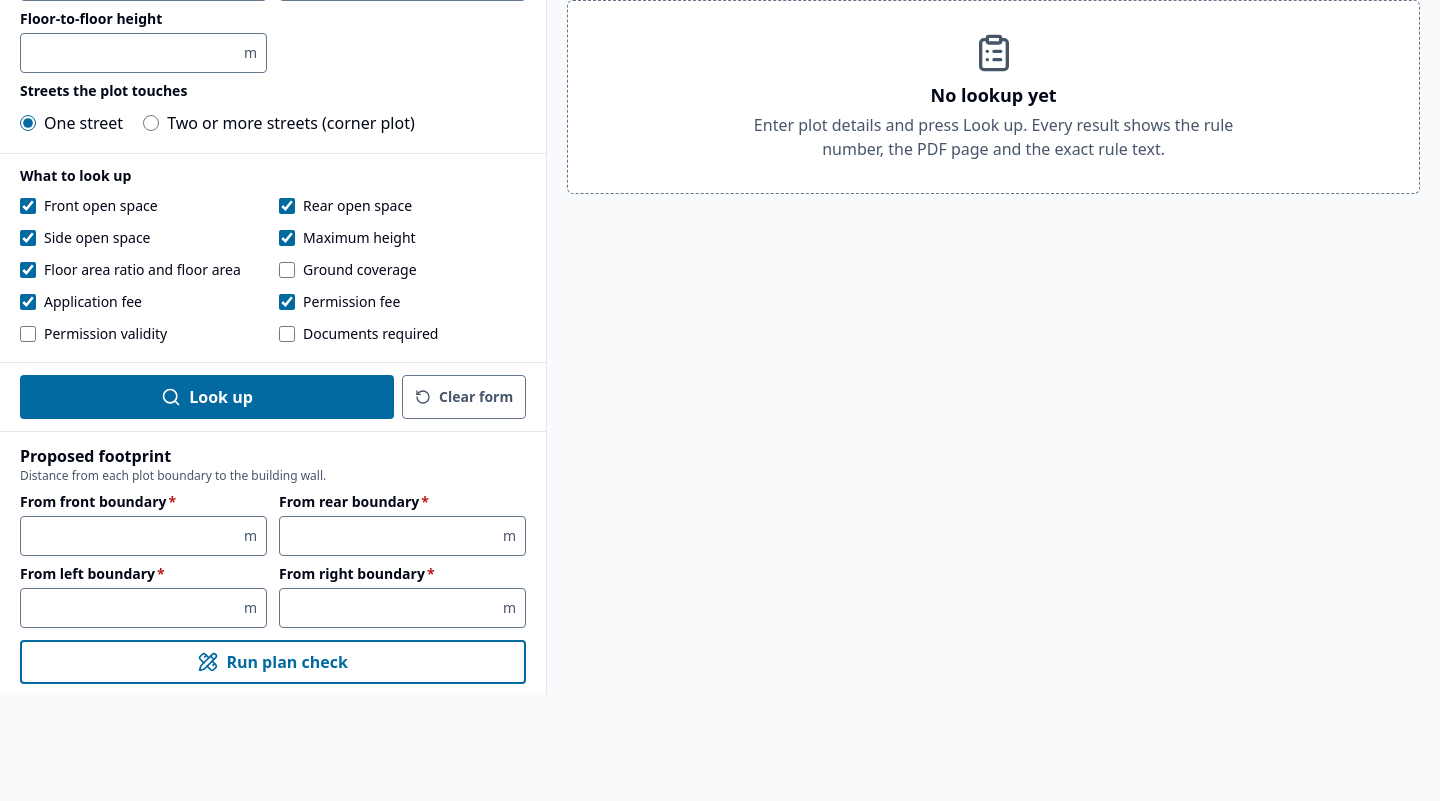
it: validation › blocks submit, names each missing field and focuses the summary
The image size is (1440, 801).
(page scrolled)
Click the button "Look up" at (207, 396), box [20,374,394,418]
(page scrolled)
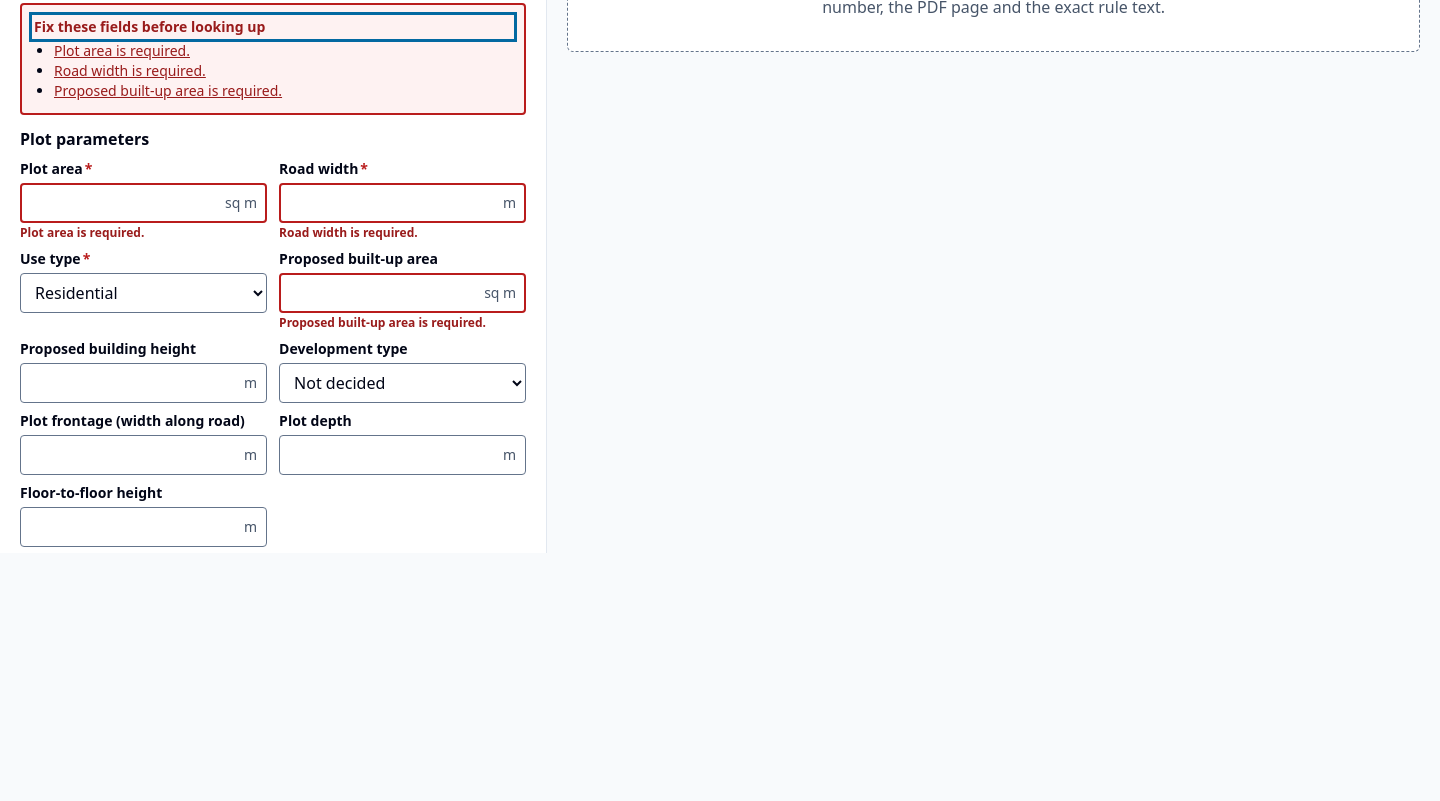
Check: the link "Plot area is required." is shown, box [54,40,190,60]
